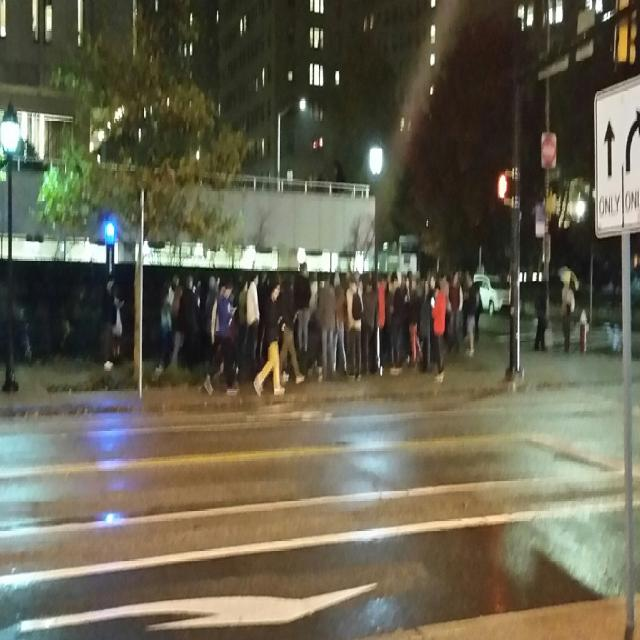body: (251, 277, 287, 399), (202, 280, 238, 397), (276, 276, 306, 386), (153, 286, 178, 376), (209, 270, 289, 298), (344, 272, 364, 382), (330, 268, 348, 383), (177, 273, 198, 371), (318, 269, 336, 382), (430, 278, 448, 384), (402, 274, 422, 368), (292, 260, 312, 353), (244, 271, 261, 379), (21, 319, 58, 365), (361, 276, 378, 376), (208, 282, 227, 370), (446, 269, 464, 357), (417, 276, 432, 372), (308, 279, 323, 374), (560, 271, 576, 356), (373, 274, 386, 376), (397, 270, 410, 362), (533, 280, 548, 351), (110, 291, 124, 366), (388, 268, 398, 370), (466, 271, 476, 358), (352, 268, 392, 286), (472, 284, 484, 340), (166, 273, 180, 308)
